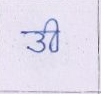i_matra: (46, 17, 59, 52)
